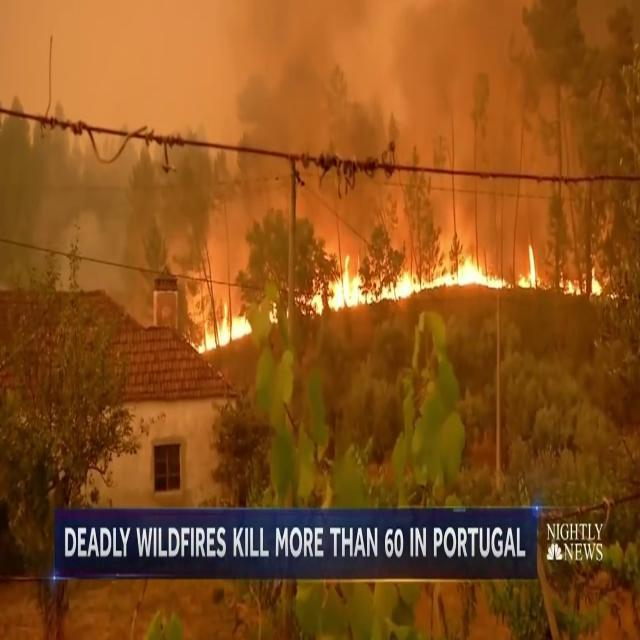Fire: (313, 240, 532, 322), (194, 288, 252, 356), (558, 258, 608, 302)
Smoke: (15, 0, 621, 244)
